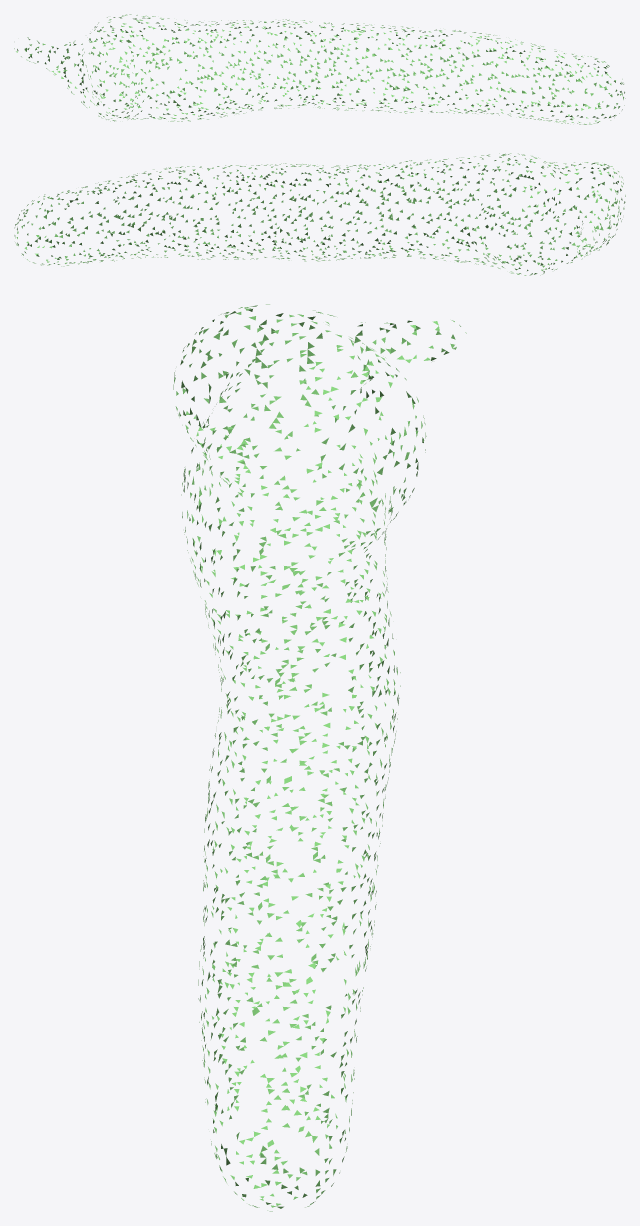
The model's file is morph_016.glb.
3 renders of one model, top to bottom at view 1: azimuth 30°, elevation 25°; view 2: azimuth 150°, elevation 25°; view 3: azimuth 270°, elevation 25°, orthographic. The views are drawn at different scales.
Size of the model in its own units: 124 by 43.28 by 27.9.
